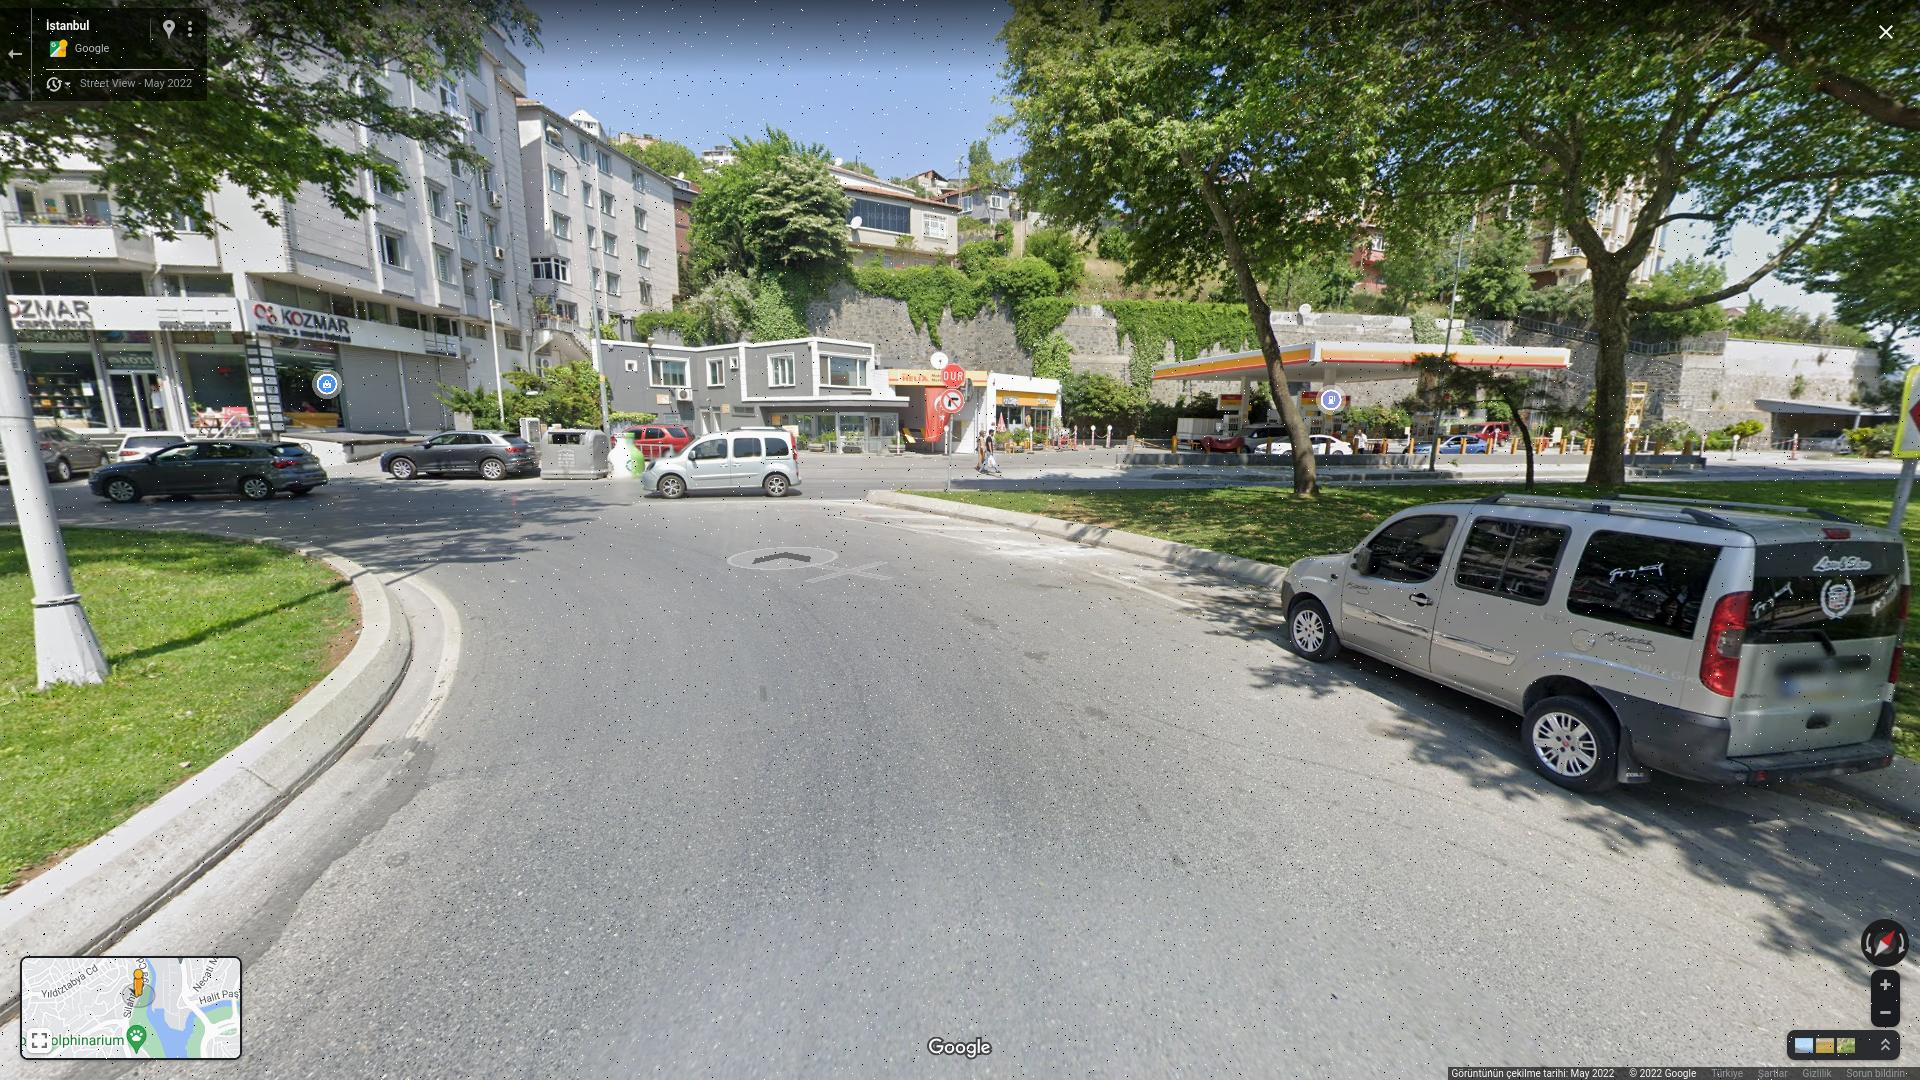rightturnsareforbidden: (942, 390, 964, 413)
stop: (943, 363, 965, 388)
